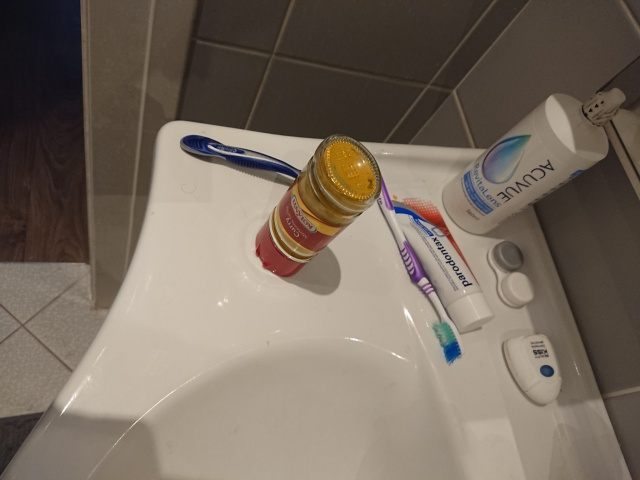Kotanyi Curry Spices Mix 70g: (252, 130, 384, 281)
